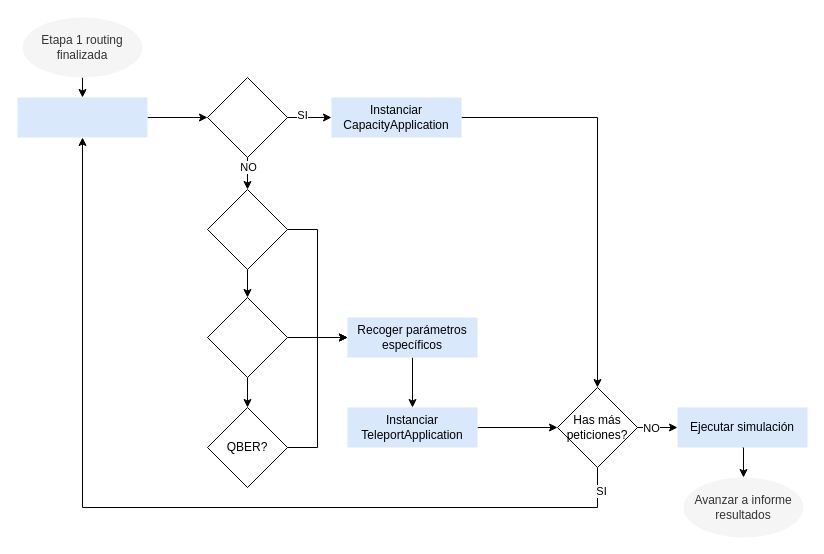
The diagram is 824 pixels wide and 554 high, and some of its shapes have lost their labels. Here are the shapes that lost their labels. From the top down, the centre of each, then its label:
At point 82,117: "Leer petición aceptada".
At point 247,117: "Capacidad?".
At point 247,229: "Teleportación?".
At point 247,337: "Teleportación con tasa demanda?".
